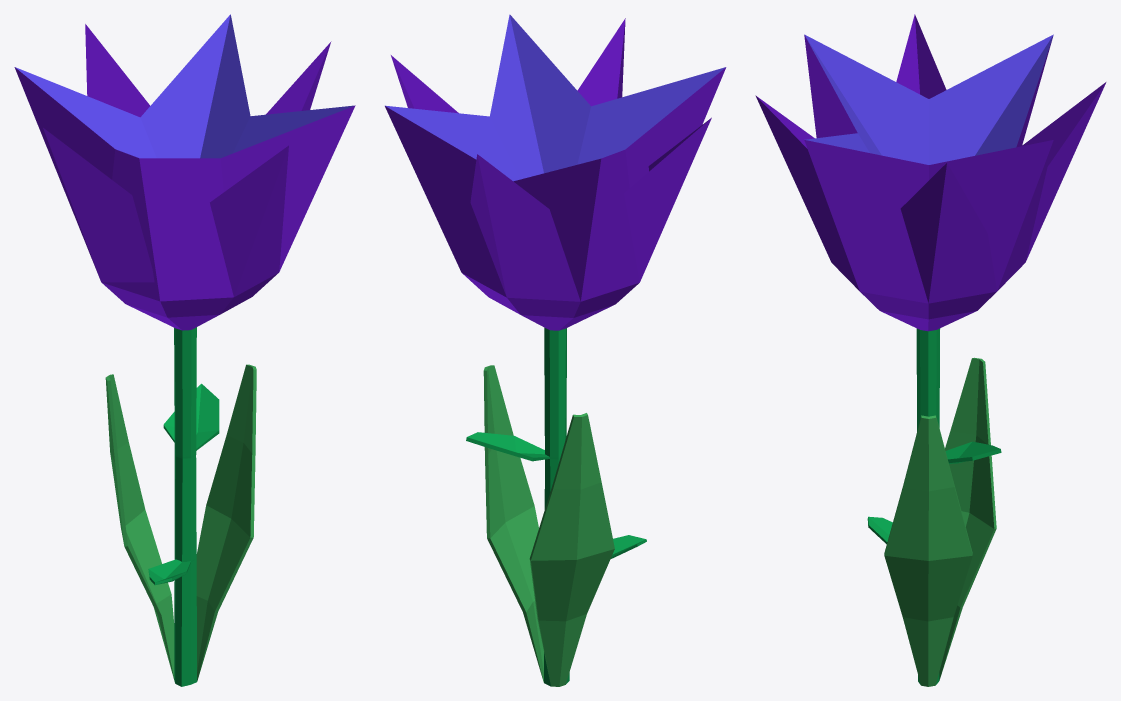
The model's file is Plant007.fbx.
3 renders of one model, left to right at view 1: azimuth 30°, elevation 25°; view 2: azimuth 150°, elevation 25°; view 3: azimuth 270°, elevation 25°, orthographic.
Visible parts, largest first — view 1: Plant007; view 2: Plant007; view 3: Plant007.
Part boxes in pixels (x1,y1,x2,y2): Plant007: (14, 14, 355, 686); Plant007: (385, 14, 726, 686); Plant007: (755, 14, 1106, 686).
Bounding box in the file's own units: 0.5291 × 0.9879 × 0.5291.
